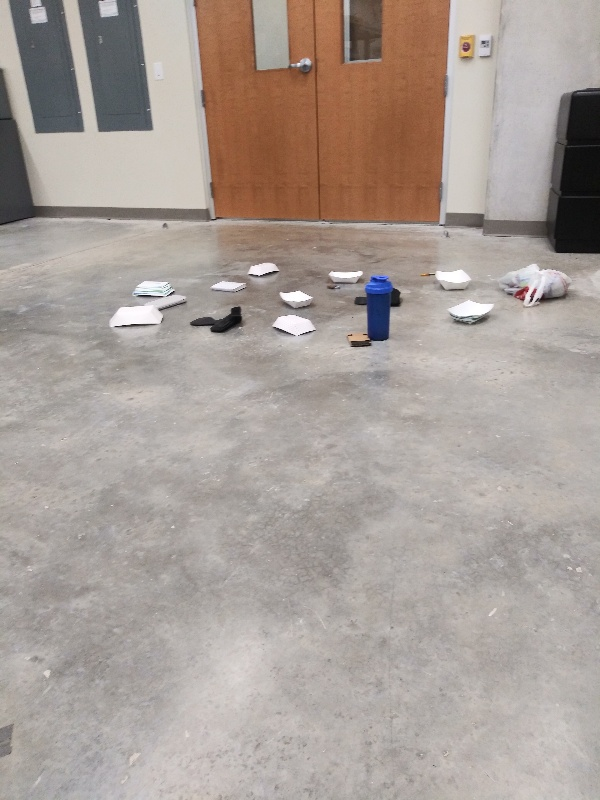plate: (107, 301, 167, 331), (444, 297, 495, 330), (272, 311, 322, 338), (129, 277, 176, 299), (434, 263, 471, 289), (280, 286, 316, 310), (327, 263, 366, 282), (247, 259, 285, 278)
